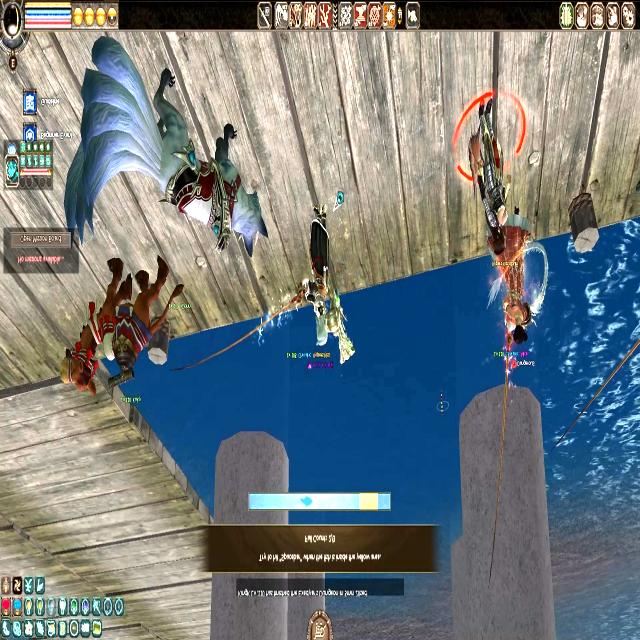fishes: (299, 494, 312, 509)
